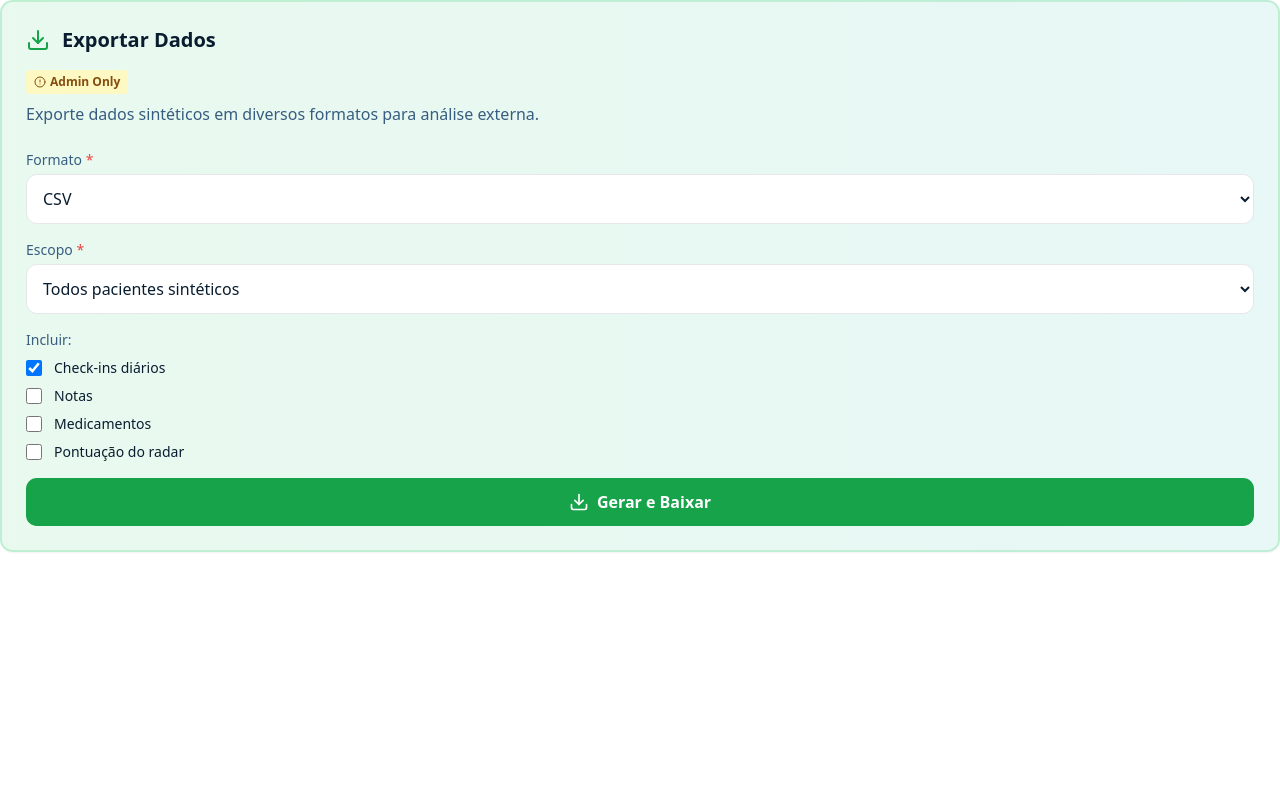
Test: ExportData › should handle API success with download_url
What coordinates should you click on to do the following:
click the button "Gerar e Baixar"
I would click on:
 (640, 502)
Its box is [26,478,1254,526].
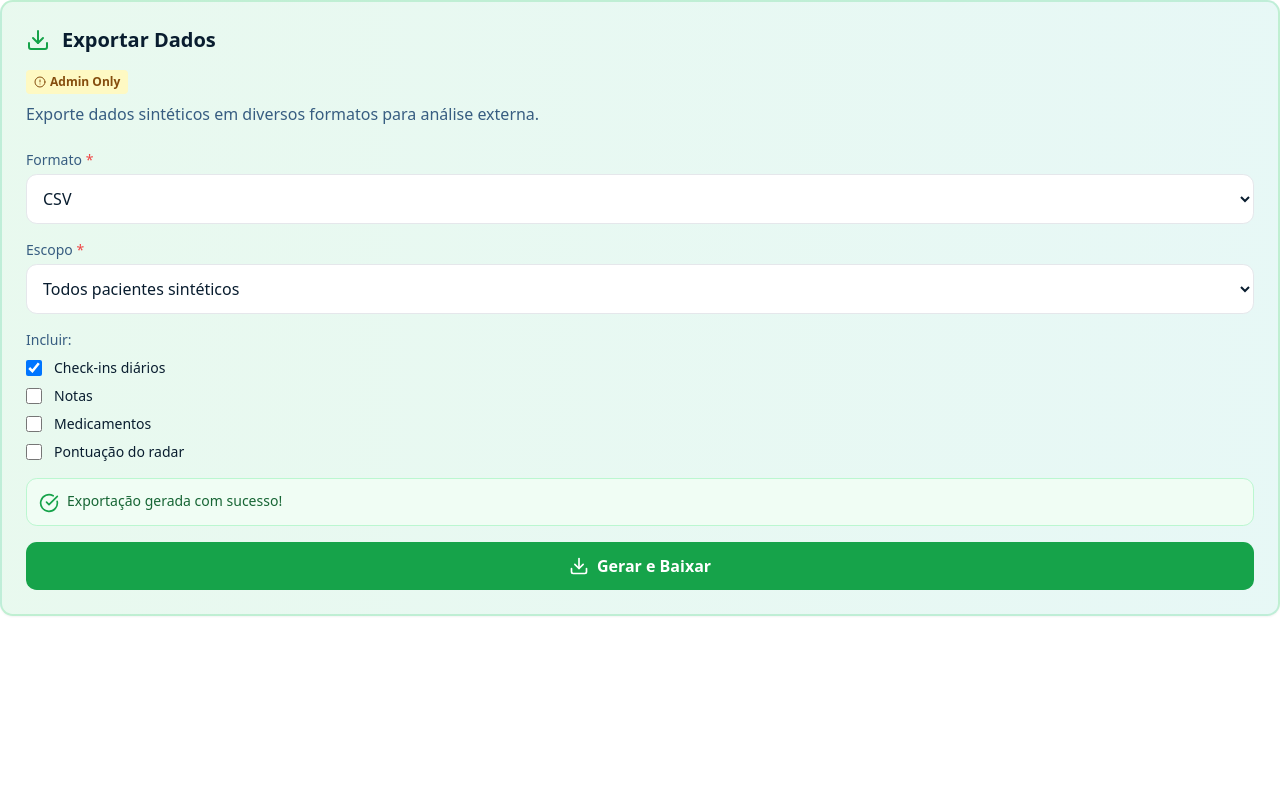
expect the text "Exportação gerada com sucesso!" is shown: met, box [67,491,282,511]
